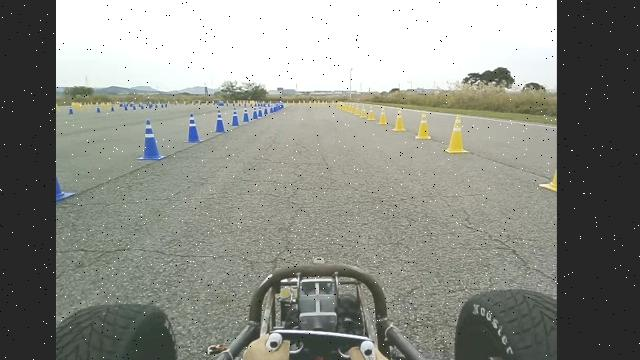blue cone: (133, 115, 171, 165), (180, 110, 207, 147), (210, 106, 230, 137)
yellow cone: (442, 113, 469, 154), (415, 111, 431, 139), (392, 109, 406, 132), (378, 106, 388, 125), (366, 105, 376, 121)
